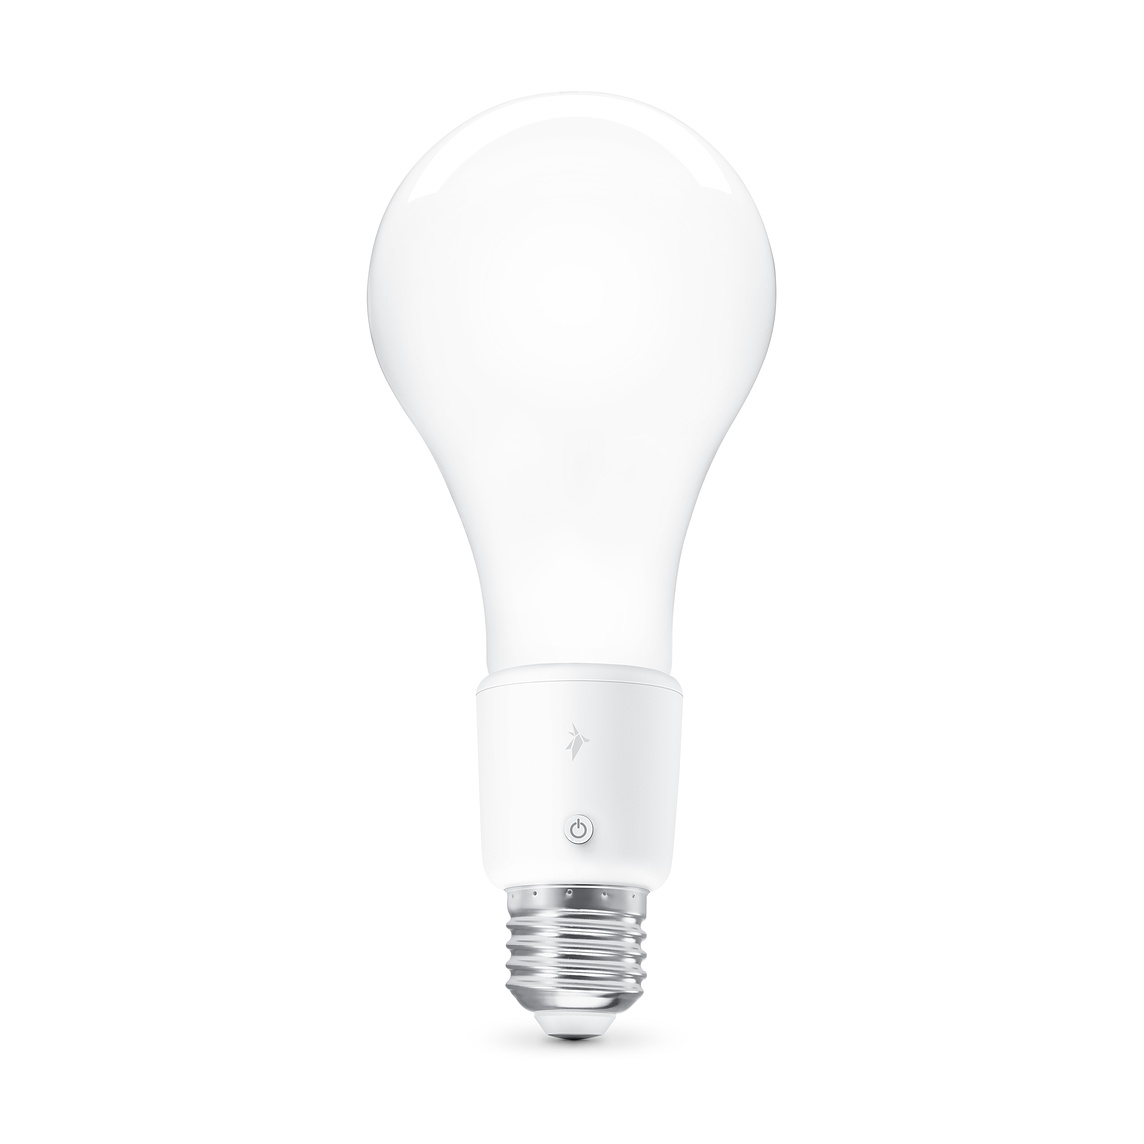Light_bulb: (364, 75, 791, 1055)
